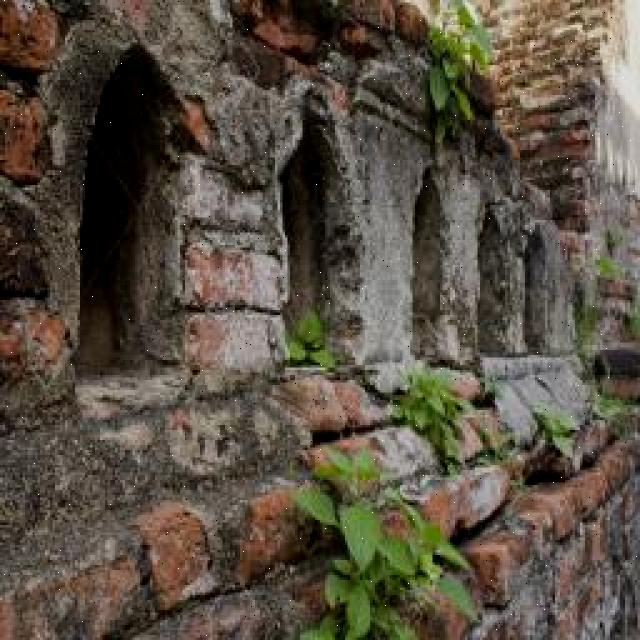dampens: (381, 353, 640, 474), (572, 237, 640, 367), (387, 363, 477, 421)
dampness: (457, 460, 637, 640), (6, 495, 220, 640)
vegetation: (289, 438, 479, 638), (422, 4, 495, 144), (302, 446, 386, 520), (283, 308, 334, 369)
